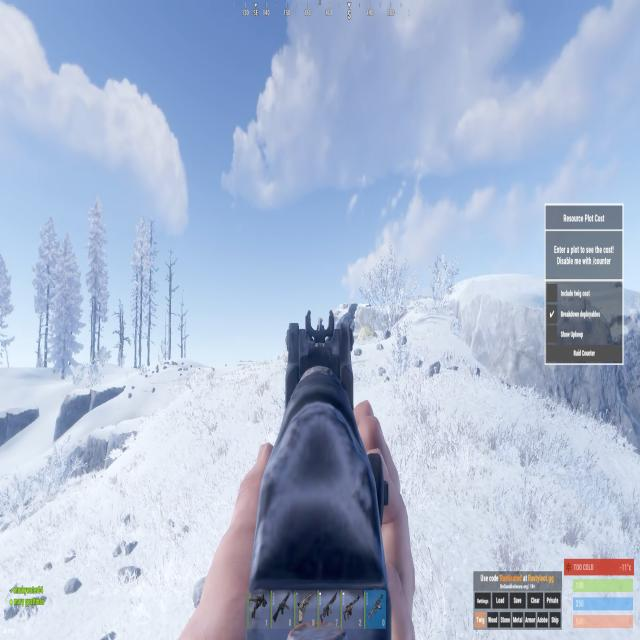Player: (316, 317, 326, 340)
